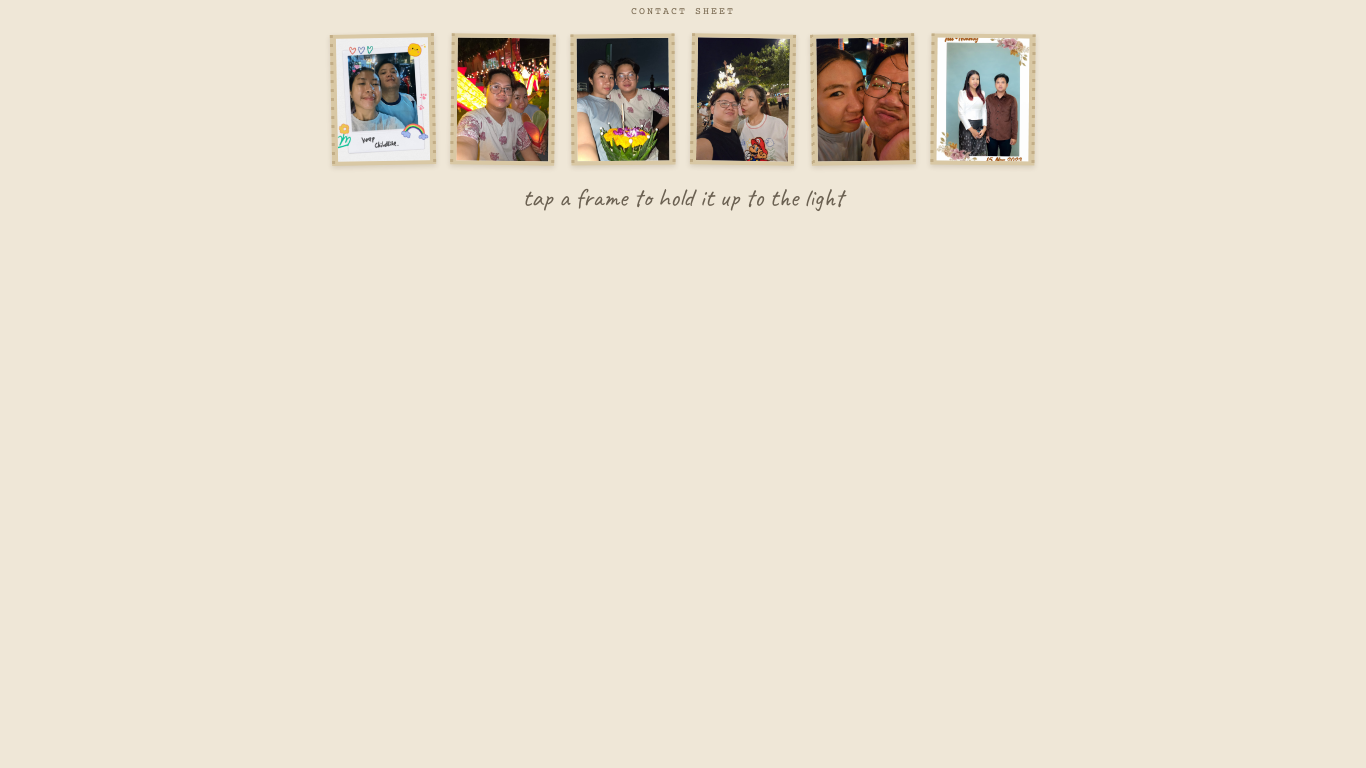
Test: PlateLightbox › opens on the plate that was pressed, named after it
Click the button named "Hold up" at [503, 99], box 450,33 -> 556,165
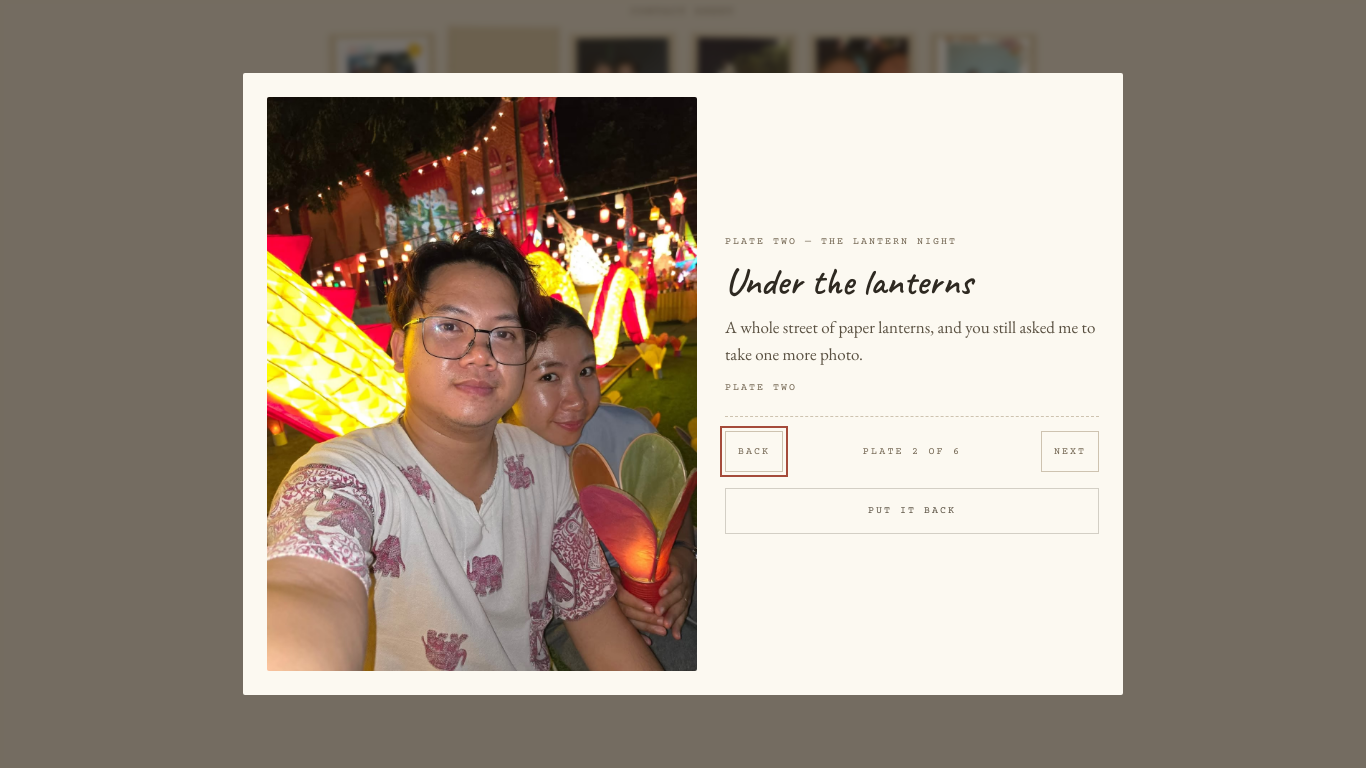
Now the dialog "Under the lanterns" is shown, box 243,73 -> 1123,695
